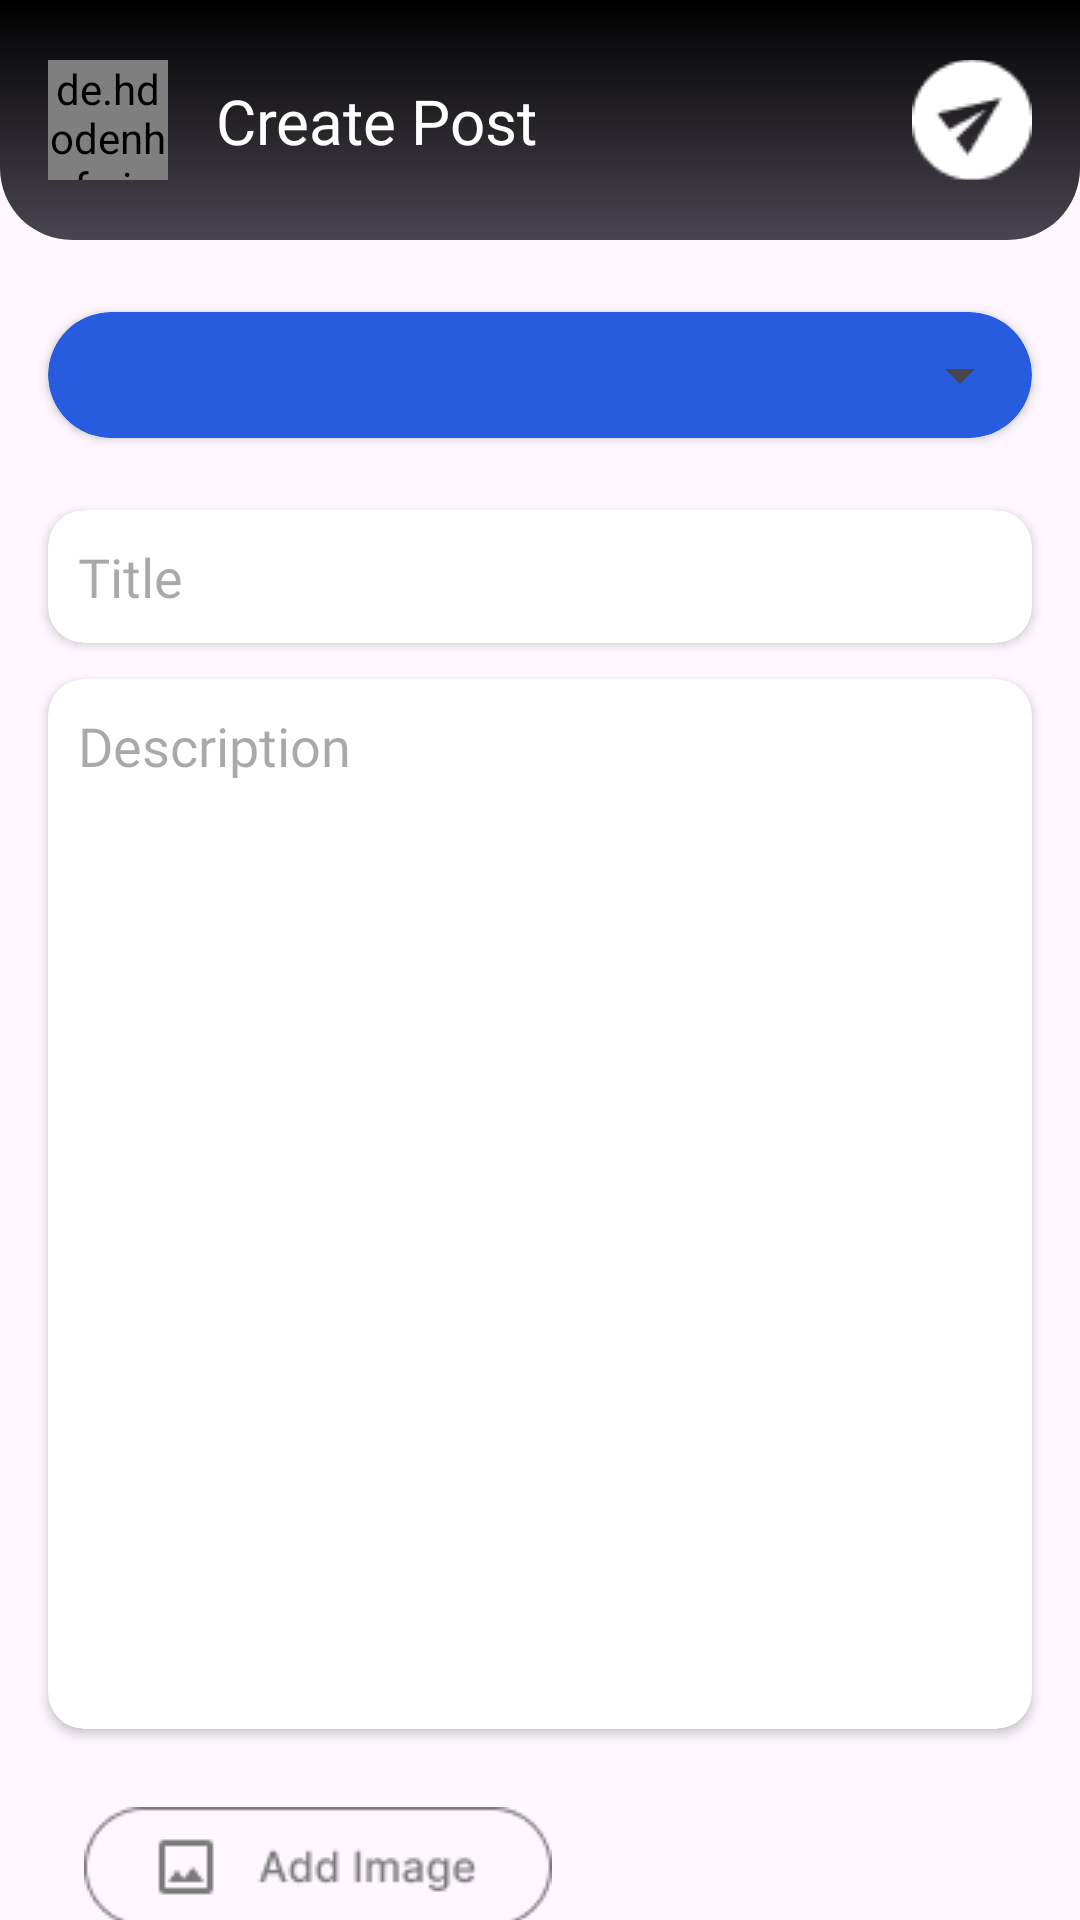

Where to tap for icons on this 1080x1920 app screen, as [x,y]:
send: [972,120]
